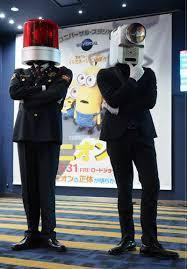no more kid: (108, 23, 149, 69)
